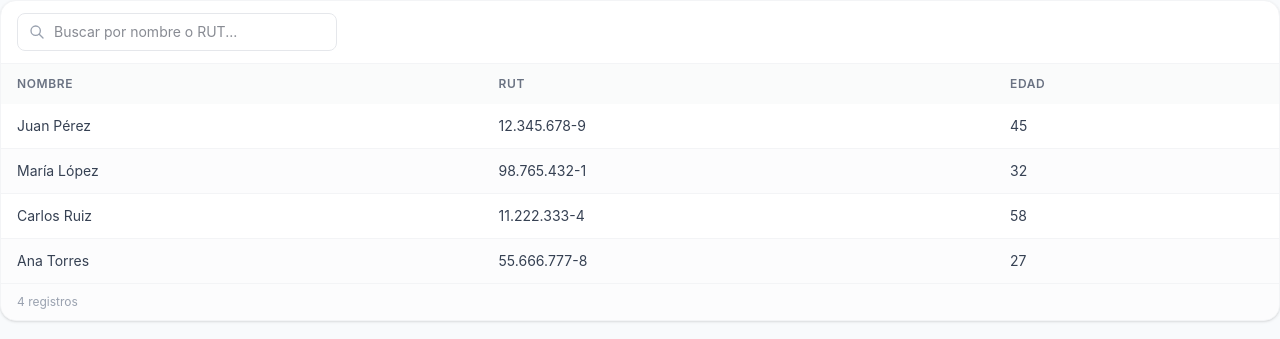
Test: DataTable › filters data by search term (after debounce)
The image size is (1280, 339).
Step 1. Type "Juan" into the field with placeholder "Buscar por nombre o RUT..." → (177, 32), box [17, 13, 337, 51]
Wait 300 ms
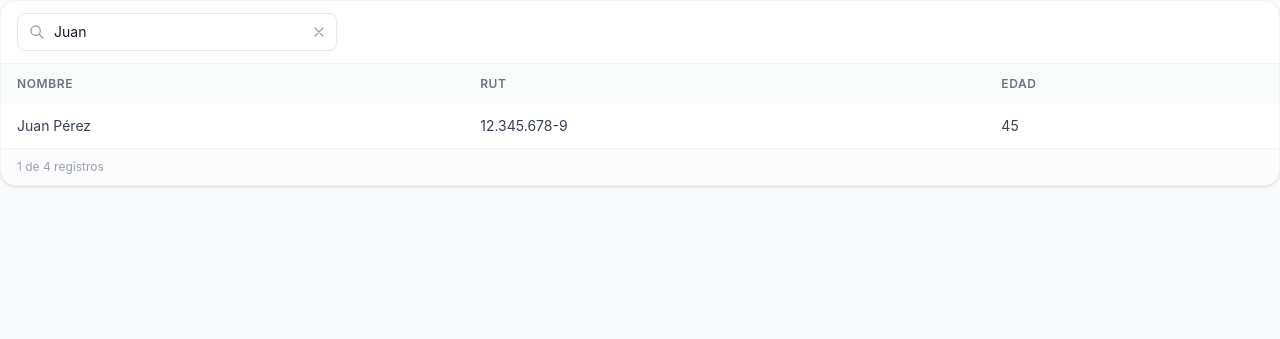
Expected: the text "Juan Pérez" is shown, [1, 104, 464, 148]
Result: the text "María López" is gone
Result: the text "1 de 4 registros" is shown at [17, 159, 104, 175]
